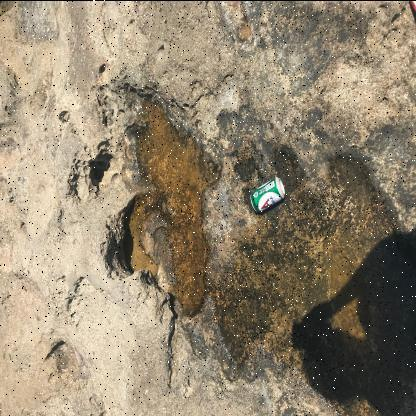metal: (204, 250, 241, 286)
